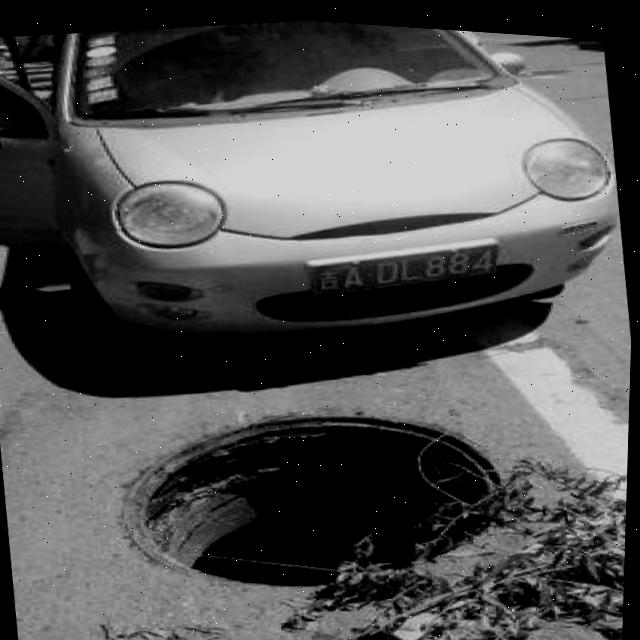manhole: (97, 364, 552, 628)
